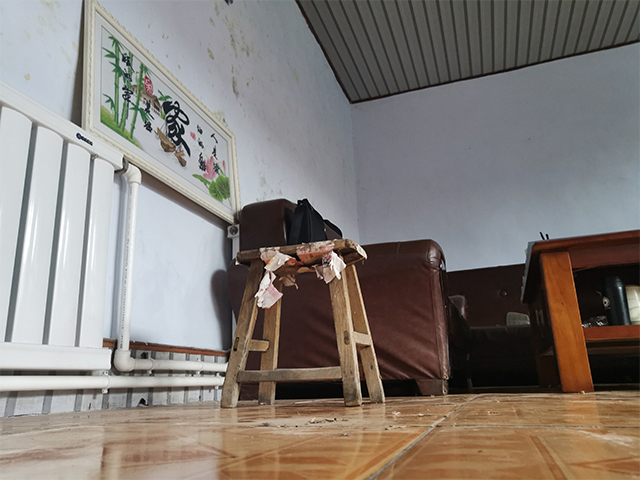sofa: (223, 196, 539, 402)
stool: (217, 236, 388, 412)
table: (519, 228, 640, 395)
